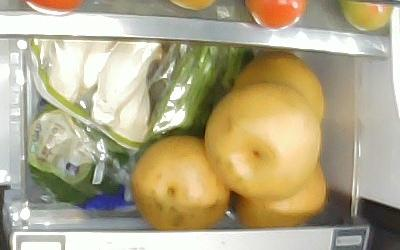pear: (204, 82, 320, 196), (132, 133, 230, 229), (229, 53, 325, 138), (235, 160, 326, 228)
